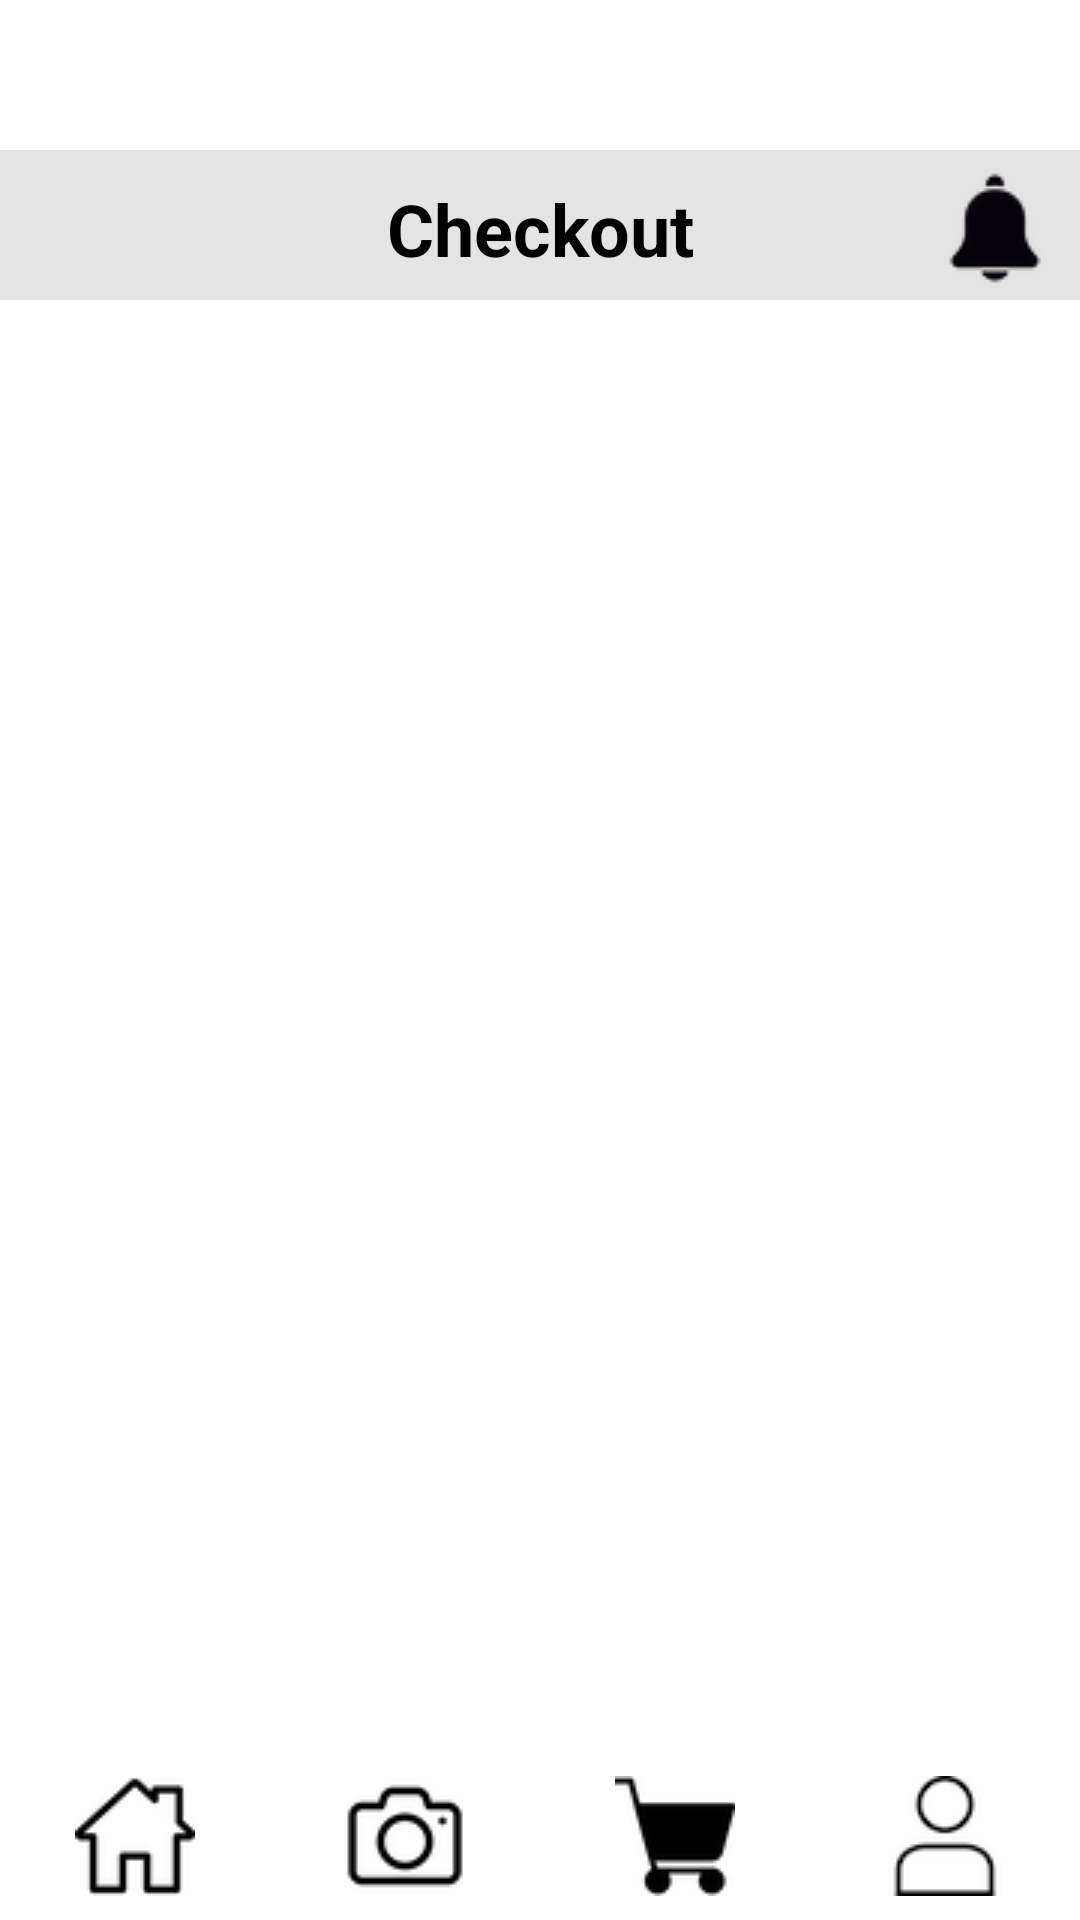

Point at icon controls on the screen. Image size 1080x1920, points as (x,y).
Checkout: (675,1836)
Home: (135,1836)
Notifications: (994,228)
Profile: (945,1836)
